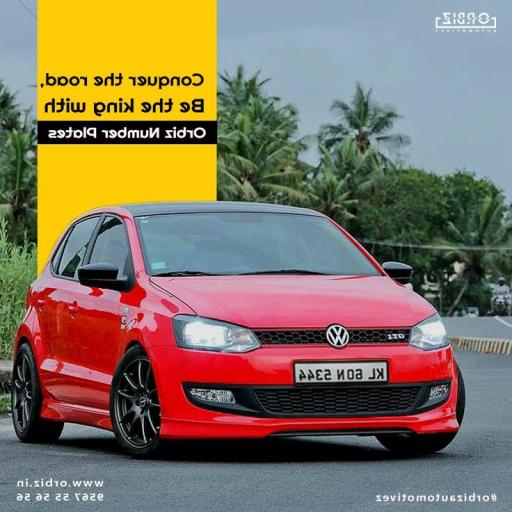License: (296, 362, 390, 383)
